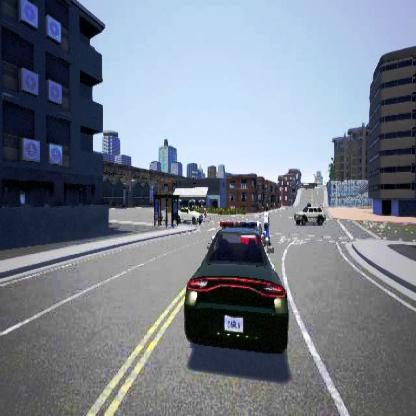bike: (262, 205, 272, 247)
vehicle: (183, 219, 288, 352), (294, 202, 324, 224), (178, 207, 206, 223)
